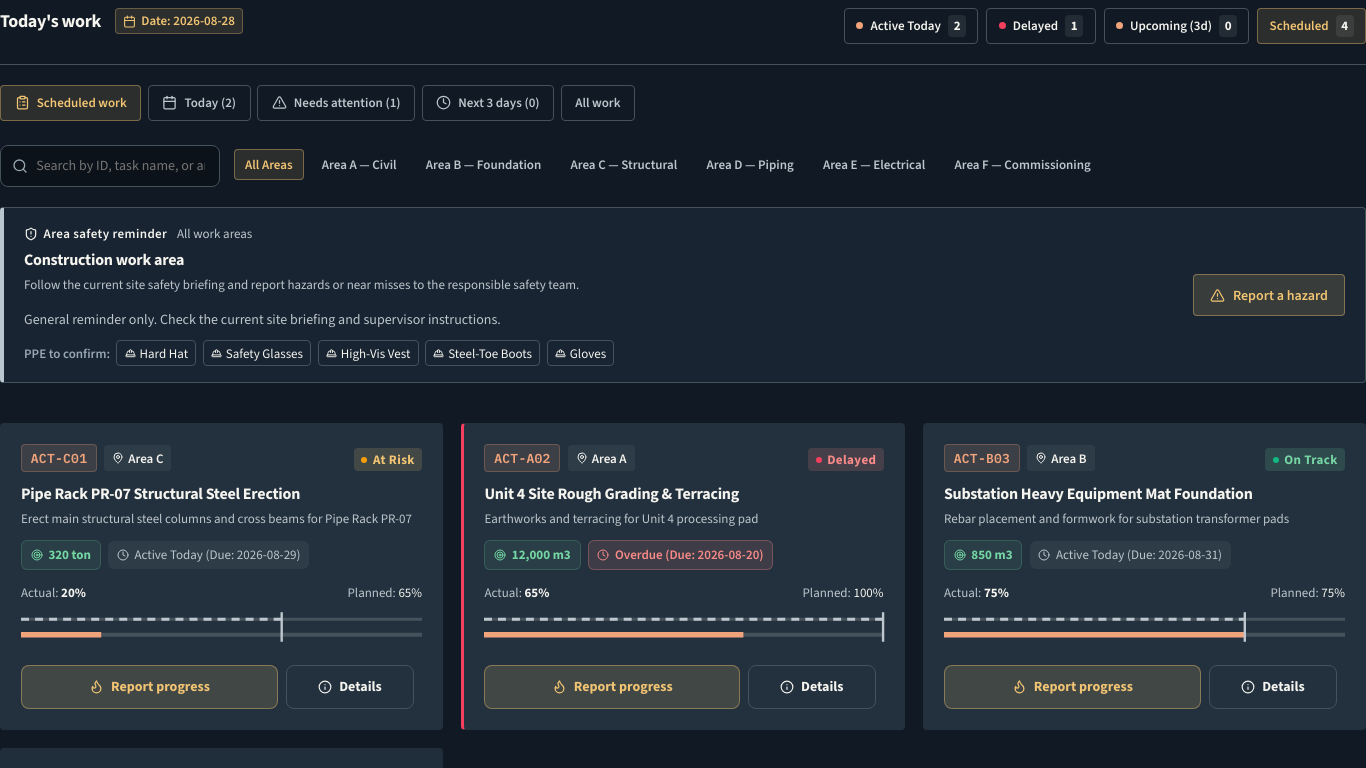
Test case: TodayWorkView Component (Pass 31) › 6. Opens and closes Task Details Modal with full operational specifications
The image size is (1366, 768).
What coordinates should you click on to do the following:
click the button with test id "detail-btn-ACT-C01"
I would click on:
 (350, 687)
Its box is [286,665,414,709].
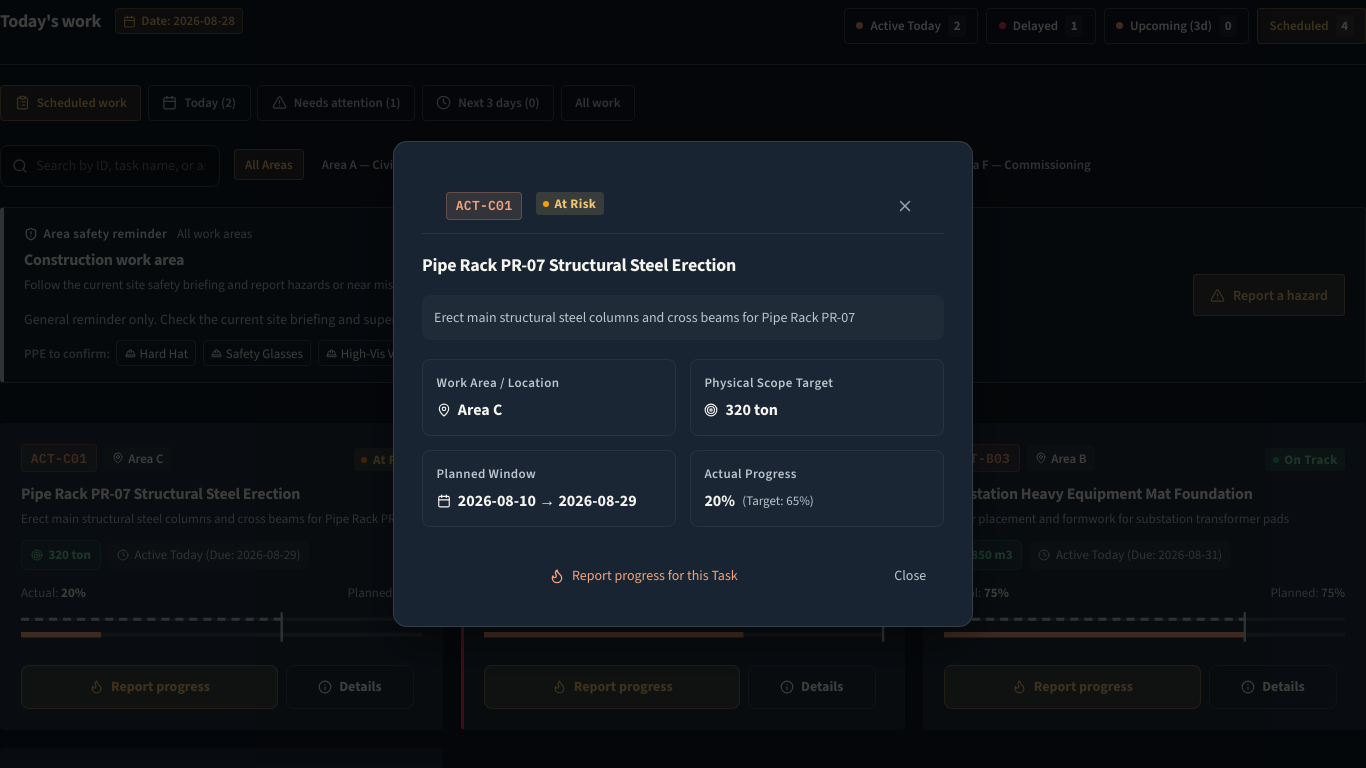
Result: the element with test id "task-detail-modal" is shown at [393,141,973,627]
Result: the element with test id "task-detail-modal" shows "Work Area / Location" at [437,374,559,391]
Result: the element with test id "task-detail-modal" shows "Physical Scope Target" at [704,374,833,391]
// Close modal
What coordinates should you click on to do the following:
click the button named "Close task details"
I would click on:
 (905, 206)
Its box is [889,190,920,221].
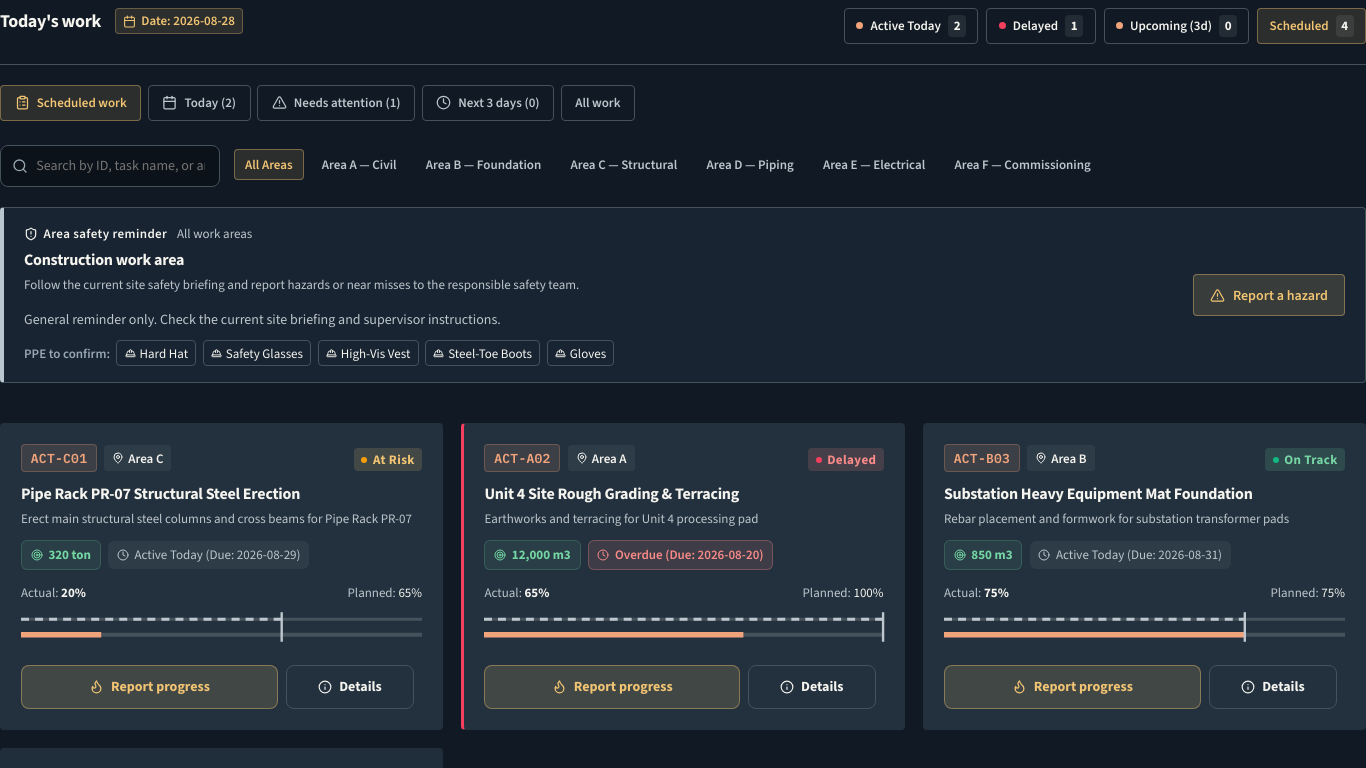
Result: the element with test id "task-detail-modal" is gone
